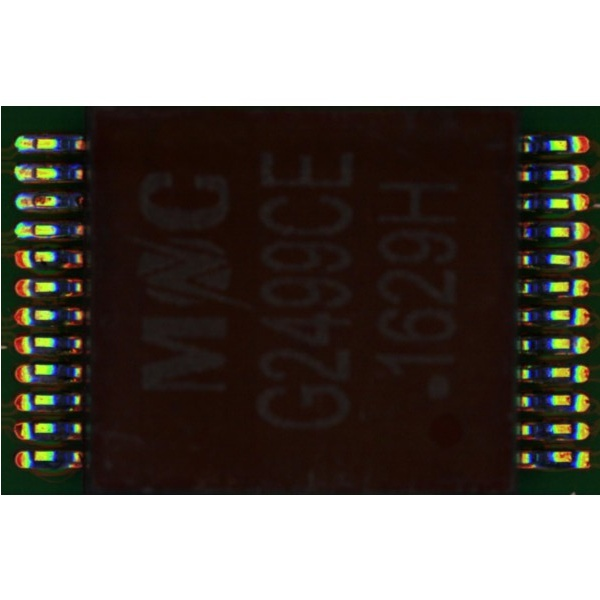Bad_podu: (25, 168, 38, 178), (23, 225, 37, 234), (27, 196, 38, 207), (27, 139, 39, 149)
